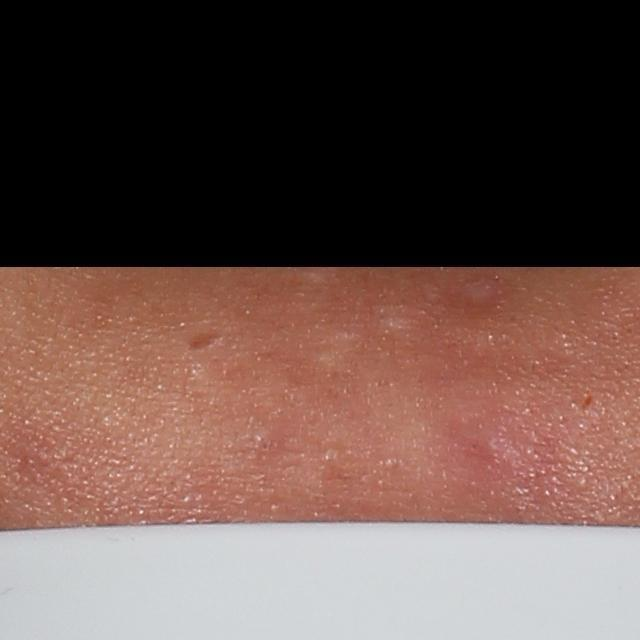atrophic_scar: (186, 332, 228, 350)
hypertrophic_scar: (315, 328, 363, 374), (371, 299, 419, 340)
